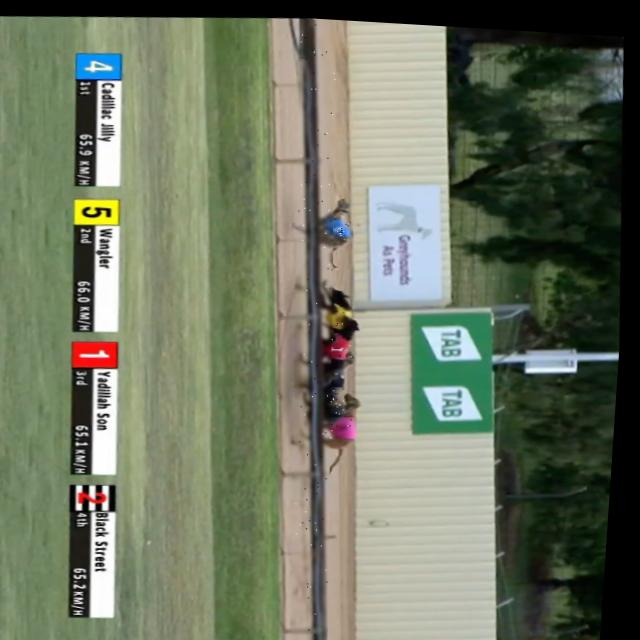dog_eight: (328, 411, 362, 435)
dog_five: (326, 301, 357, 325)
dog_four: (316, 215, 356, 238)
dog_one: (321, 332, 356, 359)
dog_seven: (323, 381, 349, 411)
rail: (300, 16, 334, 640)
